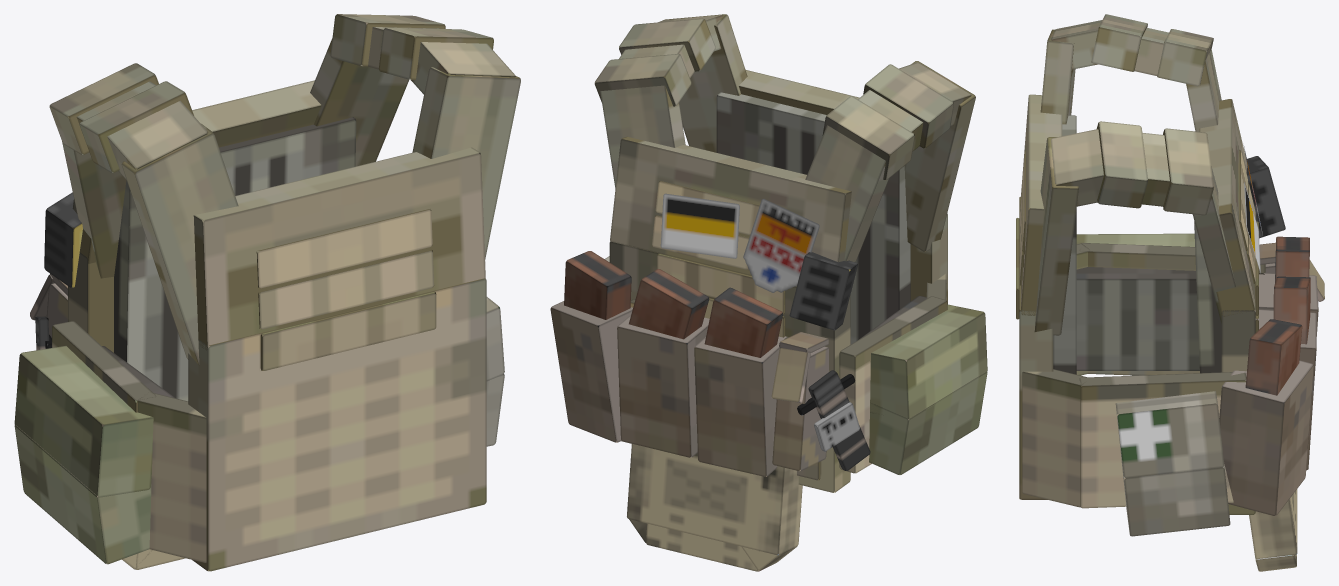
File: tmspmg.obj
3 renders of one model, left to right at view 1: azimuth 30°, elevation 25°; view 2: azimuth 150°, elevation 25°; view 3: azimuth 270°, elevation 25°, orthographic. The views are drawn at different scales.
Parts seen in each view (by area): view 1: cuboid; view 2: cuboid; view 3: cuboid.
Boxes of the visible parts, x1,y1,x2,y2 form: cuboid: (14,14,520,571); cuboid: (550,14,987,571); cuboid: (1016,14,1324,571).
Bounding box in the file's own units: 0.7892 × 0.9601 × 0.5723.
